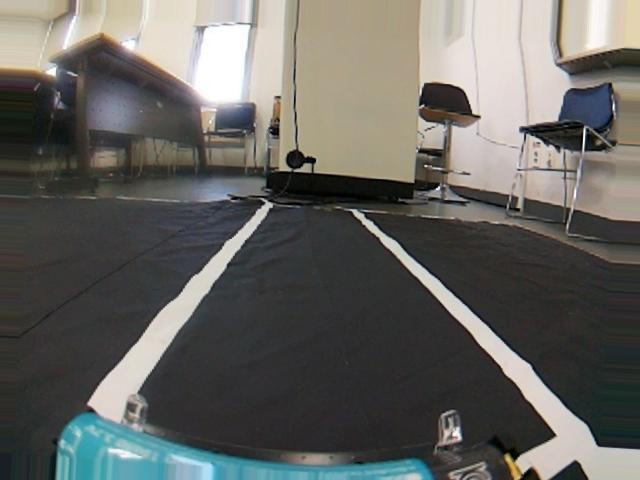straight: (6, 187, 636, 480)
